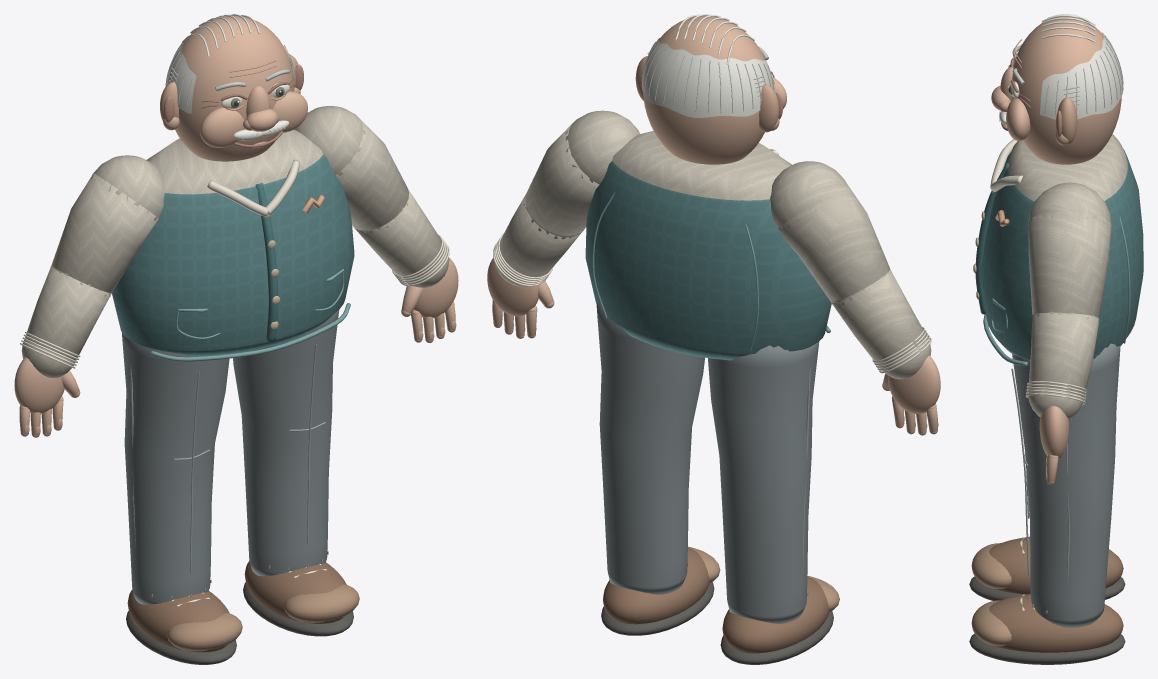
3 renders of one model, left to right at view 1: azimuth 30°, elevation 25°; view 2: azimuth 150°, elevation 25°; view 3: azimuth 270°, elevation 25°, orthographic. The views are drawn at different scales.
Visible parts, largest first — view 1: tailored woven vest, right trouser leg, left trouser leg, head, right upper knit sleeve, sweater torso, left upper knit sleeve, right lower knit sleeve, left lower knit sleeve, right walking shoe upper, left walking shoe upper, left upper knit sleeve rounded end (+13 smaller); view 2: tailored woven vest, right trouser leg, left trouser leg, head, right upper knit sleeve, receding silver hair sides and back, sweater torso, right lower knit sleeve, left upper knit sleeve, right walking shoe upper, left walking shoe upper, left upper knit sleeve rounded end (+8 smaller); view 3: left trouser leg, tailored woven vest, left upper knit sleeve, head, left lower knit sleeve, left walking shoe upper, sweater torso, receding silver hair sides and back, right walking shoe upper, left upper knit sleeve rounded end, left walking shoe sole, left palm (+13 smaller).
Boxes of the visible parts, x1=… form: tailored woven vest: x1=112, y1=154, x2=354, y2=356; right trouser leg: x1=122, y1=333, x2=229, y2=604; left trouser leg: x1=233, y1=310, x2=339, y2=576; head: x1=175, y1=15, x2=294, y2=161; right upper knit sleeve: x1=51, y1=173, x2=158, y2=293; sweater torso: x1=146, y1=129, x2=322, y2=194; left upper knit sleeve: x1=335, y1=118, x2=408, y2=230; right lower knit sleeve: x1=25, y1=265, x2=111, y2=360; left lower knit sleeve: x1=354, y1=189, x2=444, y2=280; right walking shoe upper: x1=127, y1=589, x2=229, y2=652; left walking shoe upper: x1=244, y1=561, x2=346, y2=623; left upper knit sleeve rounded end: x1=294, y1=106, x2=366, y2=175; tailored woven vest: x1=585, y1=161, x2=831, y2=360; right trouser leg: x1=708, y1=341, x2=819, y2=623; left trouser leg: x1=596, y1=302, x2=704, y2=594; head: x1=643, y1=15, x2=765, y2=164; right upper knit sleeve: x1=778, y1=178, x2=889, y2=301; receding silver hair sides and back: x1=642, y1=38, x2=773, y2=117; sweater torso: x1=612, y1=131, x2=792, y2=200; right lower knit sleeve: x1=831, y1=269, x2=926, y2=366; left upper knit sleeve: x1=525, y1=120, x2=599, y2=236; right walking shoe upper: x1=722, y1=577, x2=829, y2=653; left walking shoe upper: x1=603, y1=548, x2=709, y2=624; left upper knit sleeve rounded end: x1=565, y1=110, x2=639, y2=184; left trouser leg: x1=1012, y1=343, x2=1120, y2=627; tailored woven vest: x1=980, y1=149, x2=1143, y2=360; left upper knit sleeve: x1=1028, y1=211, x2=1111, y2=317; head: x1=1011, y1=16, x2=1121, y2=164; left lower knit sleeve: x1=1028, y1=312, x2=1099, y2=397; left walking shoe upper: x1=989, y1=594, x2=1123, y2=652; sweater torso: x1=1008, y1=134, x2=1127, y2=201; receding silver hair sides and back: x1=1040, y1=32, x2=1123, y2=119; right walking shoe upper: x1=989, y1=536, x2=1123, y2=594; left upper knit sleeve rounded end: x1=1028, y1=182, x2=1111, y2=228; left walking shoe sole: x1=969, y1=633, x2=1125, y2=664; left palm: x1=1039, y1=406, x2=1068, y2=458.
Size of the model in its own units: 1.32 by 1.73 by 0.451.
Materials: 22 (2 with a texture image).
